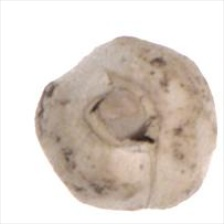L3: (89, 73, 160, 156)
L4: (34, 35, 216, 212)
